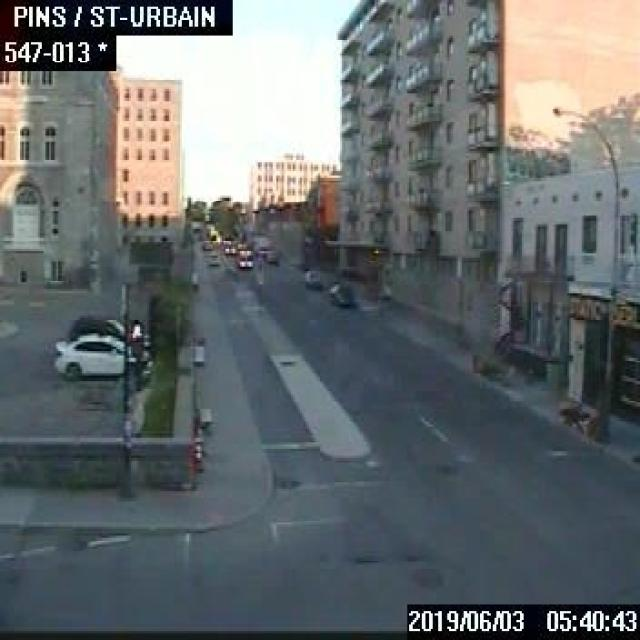vehicle: (53, 331, 150, 380), (68, 312, 148, 346), (327, 280, 352, 304), (302, 267, 322, 287), (233, 248, 252, 265), (206, 249, 219, 263), (222, 242, 235, 252)
